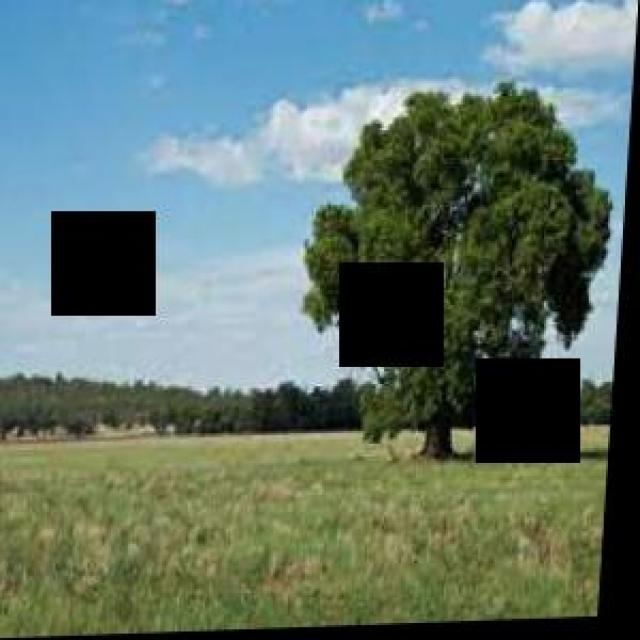tree: (1, 1, 449, 639)
